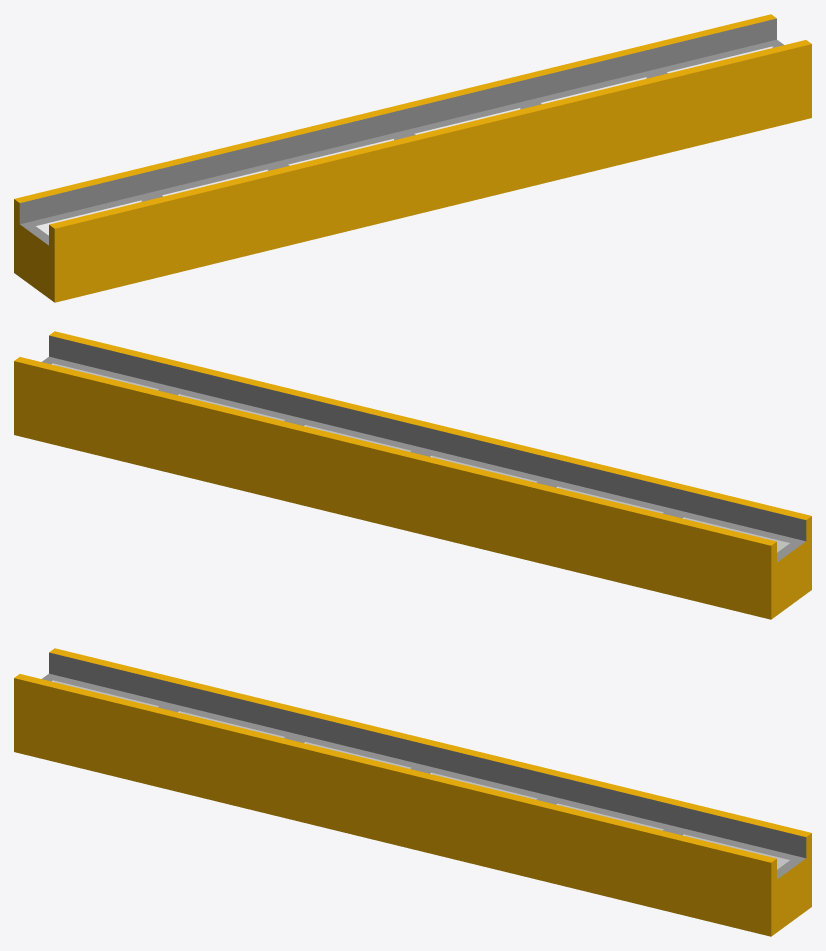
The model's file is bar_light_large.dae.
3 renders of one model, top to bottom at view 1: azimuth 30°, elevation 25°; view 2: azimuth 150°, elevation 25°; view 3: azimuth 330°, elevation 25°, orthographic.
Parts seen in each view (by area): view 1: Cube; view 2: Cube; view 3: Cube.
Part boxes in pixels (left/top/right/bottom): Cube: left=14, top=14, right=811, bottom=302; Cube: left=14, top=331, right=811, bottom=619; Cube: left=14, top=648, right=811, bottom=936.
Bounding box in the file's own units: 0.75 × 0.07 × 0.07.
